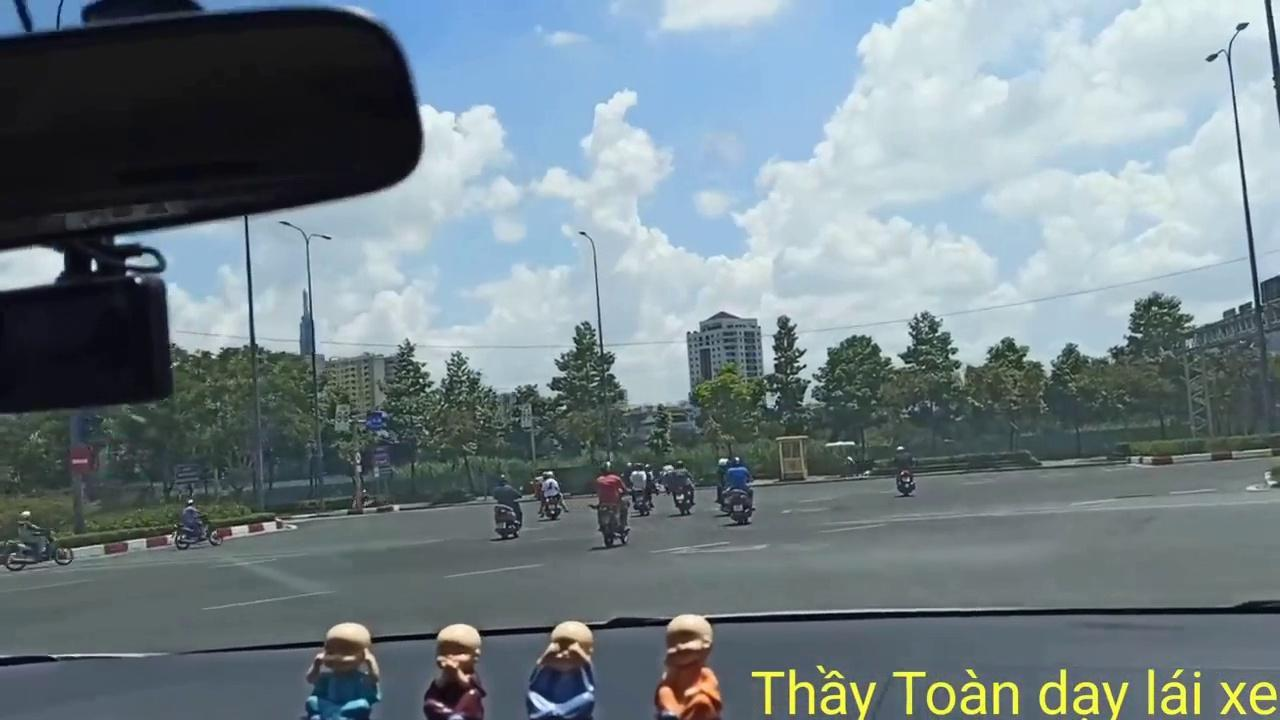Cấm cac phương tiện hoạt động trong khung giờ cố định: (334, 404, 350, 432)
Cấm đi ngược chiều: (64, 444, 95, 476)
Làn đường cho từng xe: (364, 412, 383, 432)
